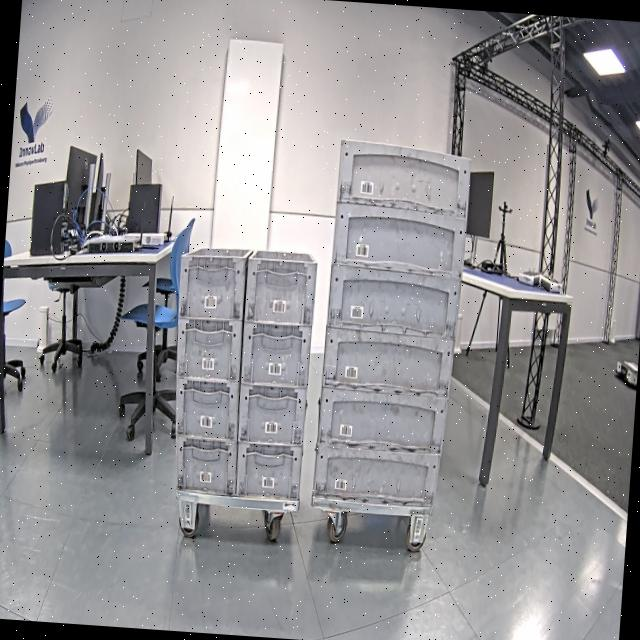Box3G: (334, 137, 472, 220), (330, 203, 468, 280), (327, 266, 462, 338), (316, 386, 448, 456), (321, 330, 456, 398), (310, 446, 440, 510)
Box8G: (177, 244, 254, 321), (244, 248, 318, 326), (240, 321, 312, 388), (235, 382, 308, 447), (173, 316, 244, 382), (173, 376, 240, 441), (234, 441, 304, 503), (172, 438, 238, 494)
